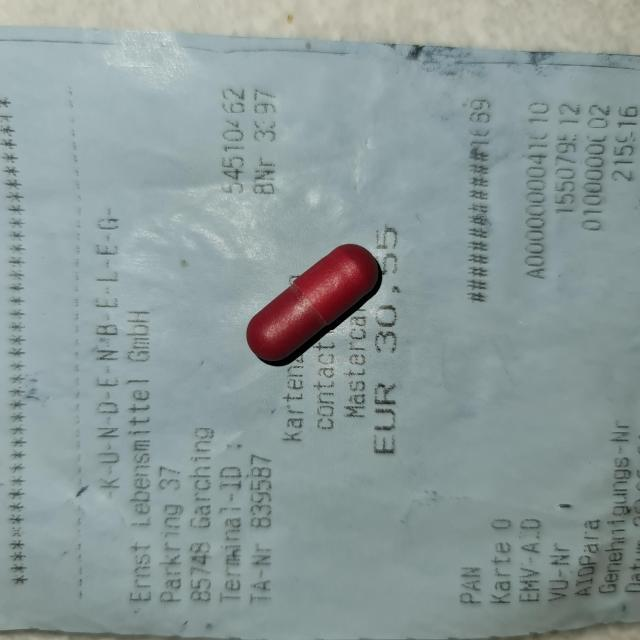pill: (246, 242, 384, 368)
